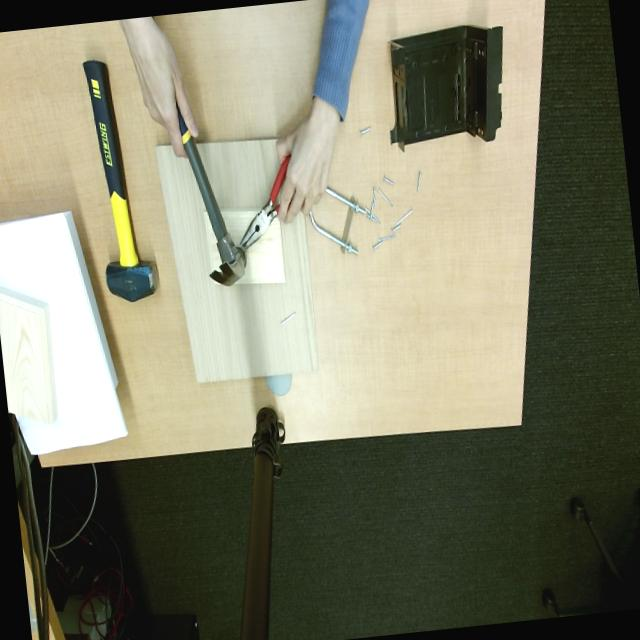hammer: (83, 61, 158, 301), (177, 105, 246, 285)
pliers: (239, 154, 290, 250)
